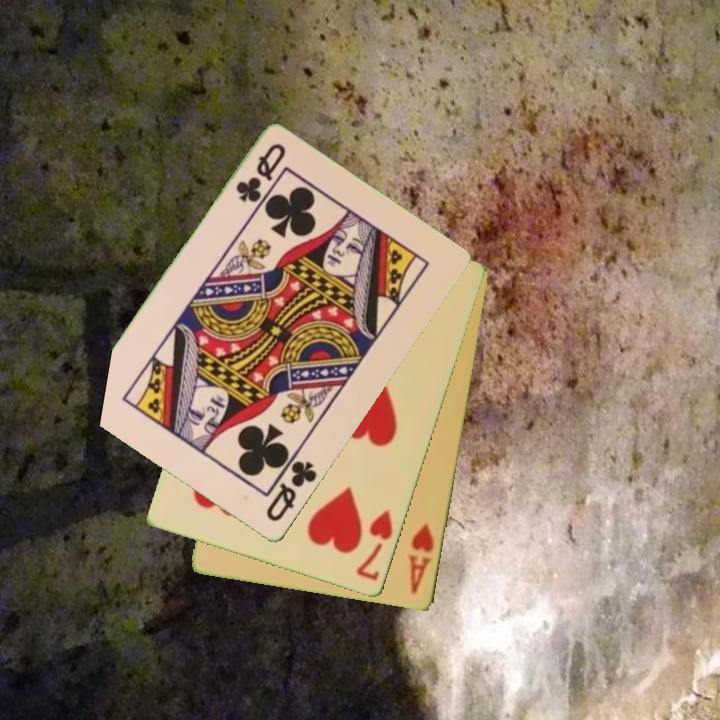7h: (353, 506, 396, 584)
Ah: (405, 520, 438, 598)
Qc: (262, 448, 320, 526), (232, 140, 289, 206)
